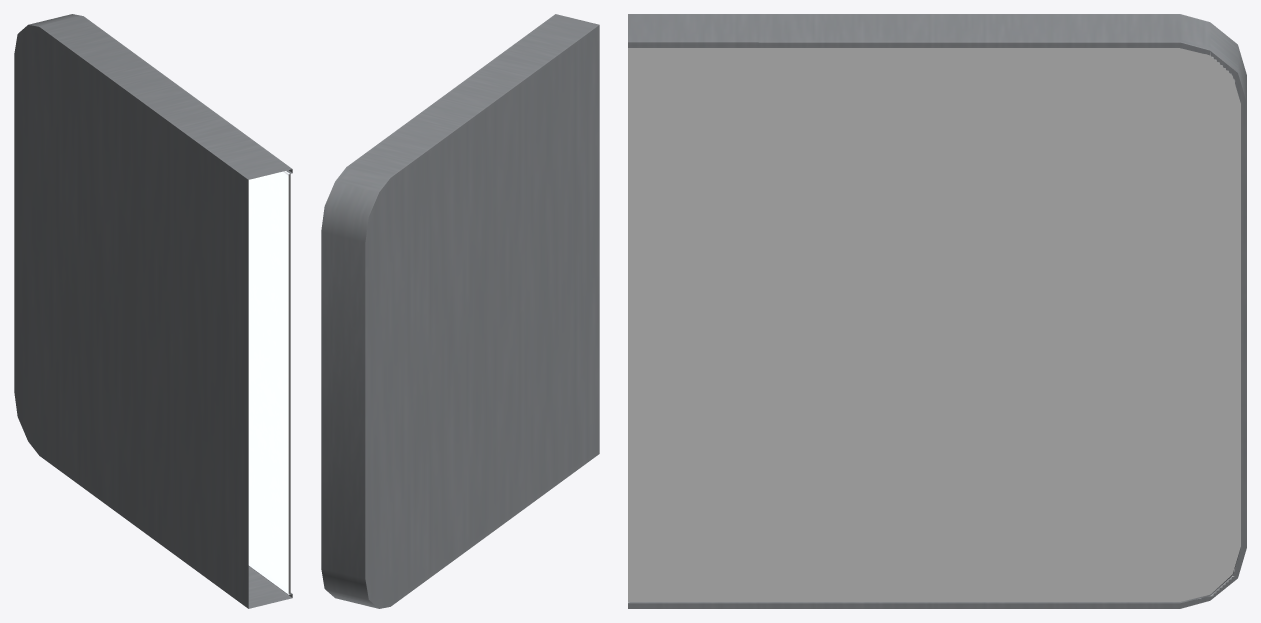
The model's file is station pointer right.fbx.
3 renders of one model, left to right at view 1: azimuth 30°, elevation 25°; view 2: azimuth 150°, elevation 25°; view 3: azimuth 270°, elevation 25°, orthographic. The views are drawn at different scales.
Visible parts, largest first — view 1: station pointer right, station pointer right info; view 2: station pointer right; view 3: station pointer right info, station pointer right.
Part boxes in pixels (box(x1,y1,x2,y2)): station pointer right: box(14, 14, 292, 608); station pointer right info: box(288, 174, 290, 593); station pointer right: box(321, 14, 599, 608); station pointer right info: box(628, 48, 1240, 601); station pointer right: box(628, 14, 1246, 608).
Bounding box in the file's own units: 101 × 11 × 102.
